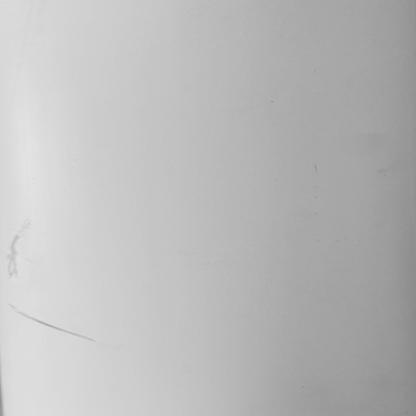sunshang: (10, 306, 97, 345), (1, 218, 54, 278)
